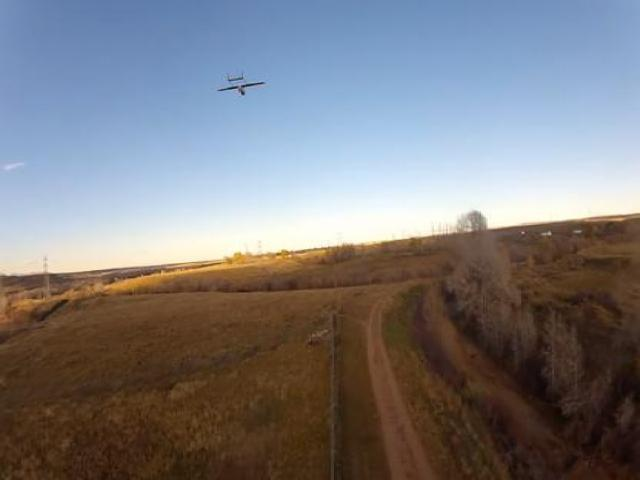uav: (214, 66, 266, 96)
